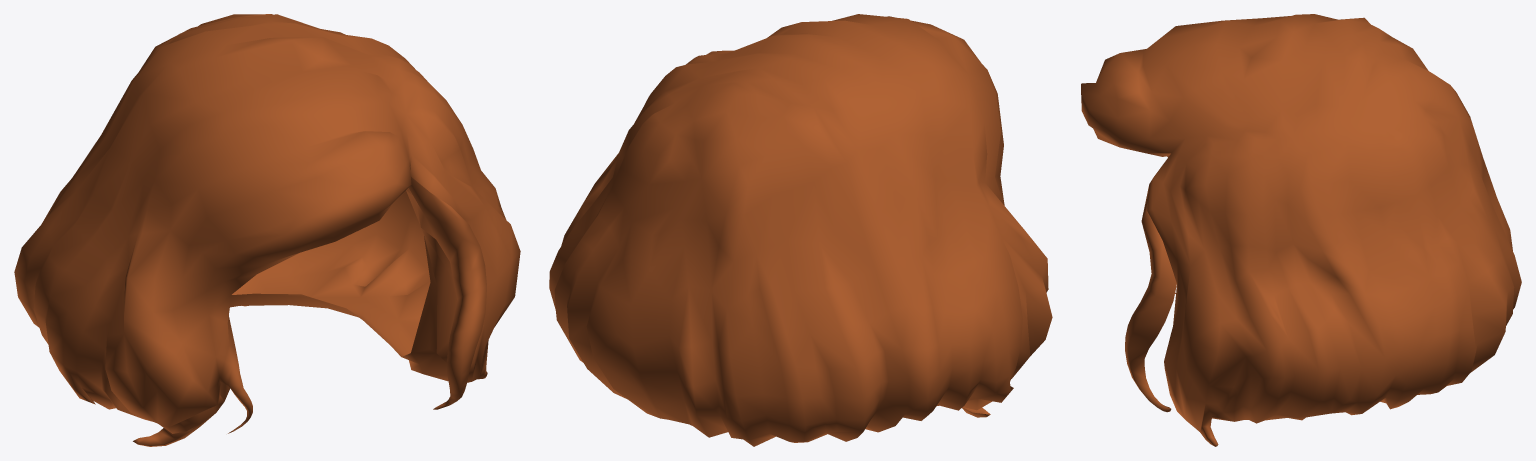
The picture shows the model from 3 angles, left to right: view 1: azimuth 30°, elevation 25°; view 2: azimuth 150°, elevation 25°; view 3: azimuth 270°, elevation 25°; orthographic projection. The views are drawn at different scales.
Parts seen in each view (by area): view 1: Wolf3D_Hair.127; view 2: Wolf3D_Hair.127; view 3: Wolf3D_Hair.127.
Part boxes in pixels (x1,y1,x2,y2): Wolf3D_Hair.127: (14, 14, 520, 446); Wolf3D_Hair.127: (549, 14, 1052, 446); Wolf3D_Hair.127: (1081, 14, 1521, 446).
Size of the model in its own units: 0.2768 by 0.2195 by 0.2571.
1 material, 1 textured.
